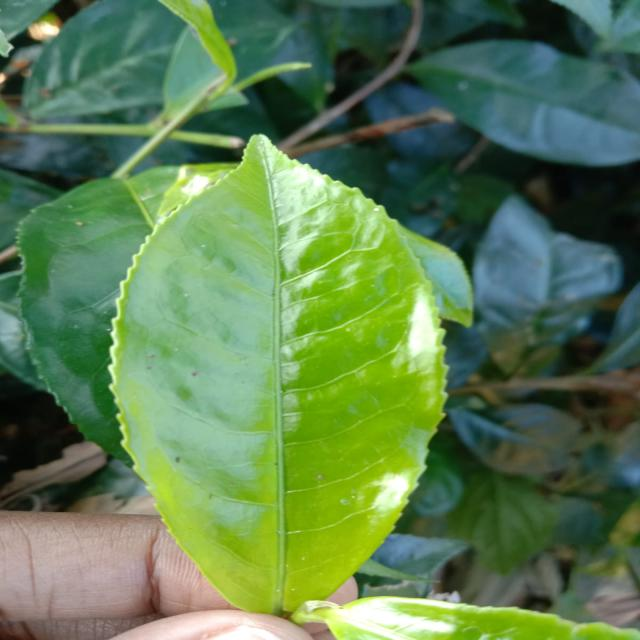Category B 2-4 days: (84, 135, 451, 621)
